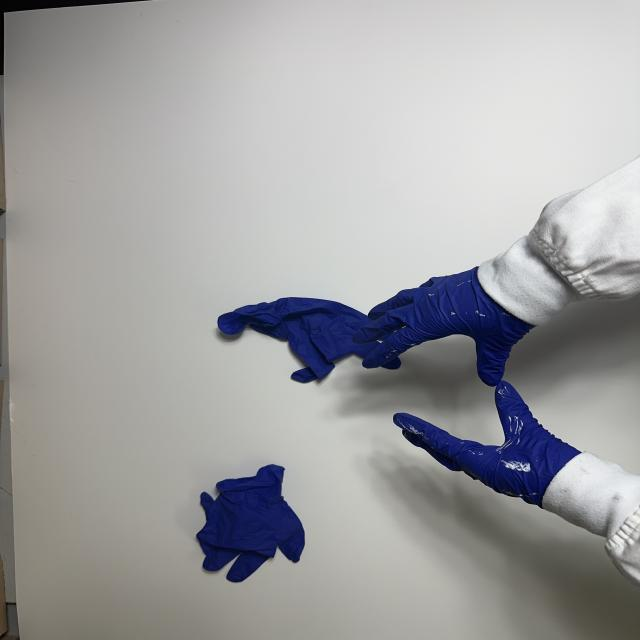gloves_contaminated: (394, 382, 580, 508), (354, 267, 534, 386)
